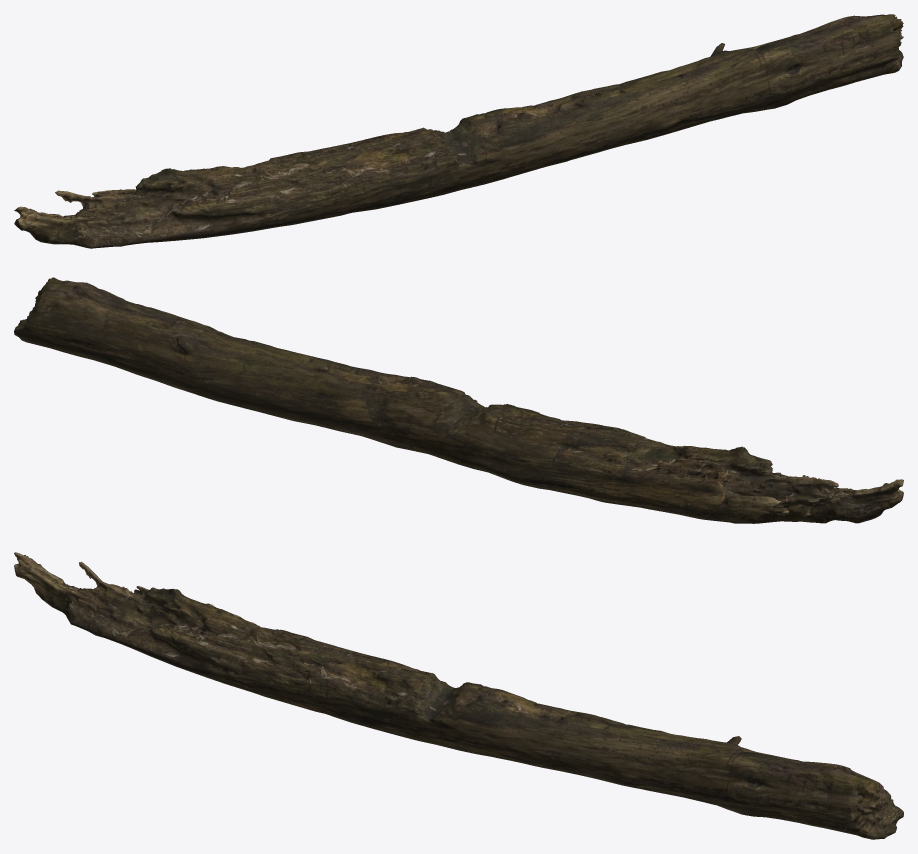
File: dead_trunk_a.glb
3 renders of one model, top to bottom at view 1: azimuth 30°, elevation 25°; view 2: azimuth 150°, elevation 25°; view 3: azimuth 330°, elevation 25°, orthographic.
Visible parts, largest first — view 1: dead_tree_trunk; view 2: dead_tree_trunk; view 3: dead_tree_trunk.
Boxes of the visible parts, x1=… form: dead_tree_trunk: x1=14, y1=14, x2=903, y2=248; dead_tree_trunk: x1=14, y1=277, x2=903, y2=523; dead_tree_trunk: x1=14, y1=552, x2=903, y2=839.
Bounding box in the file's own units: 3.05 × 0.2898 × 0.2775.
1 material, 1 textured.
